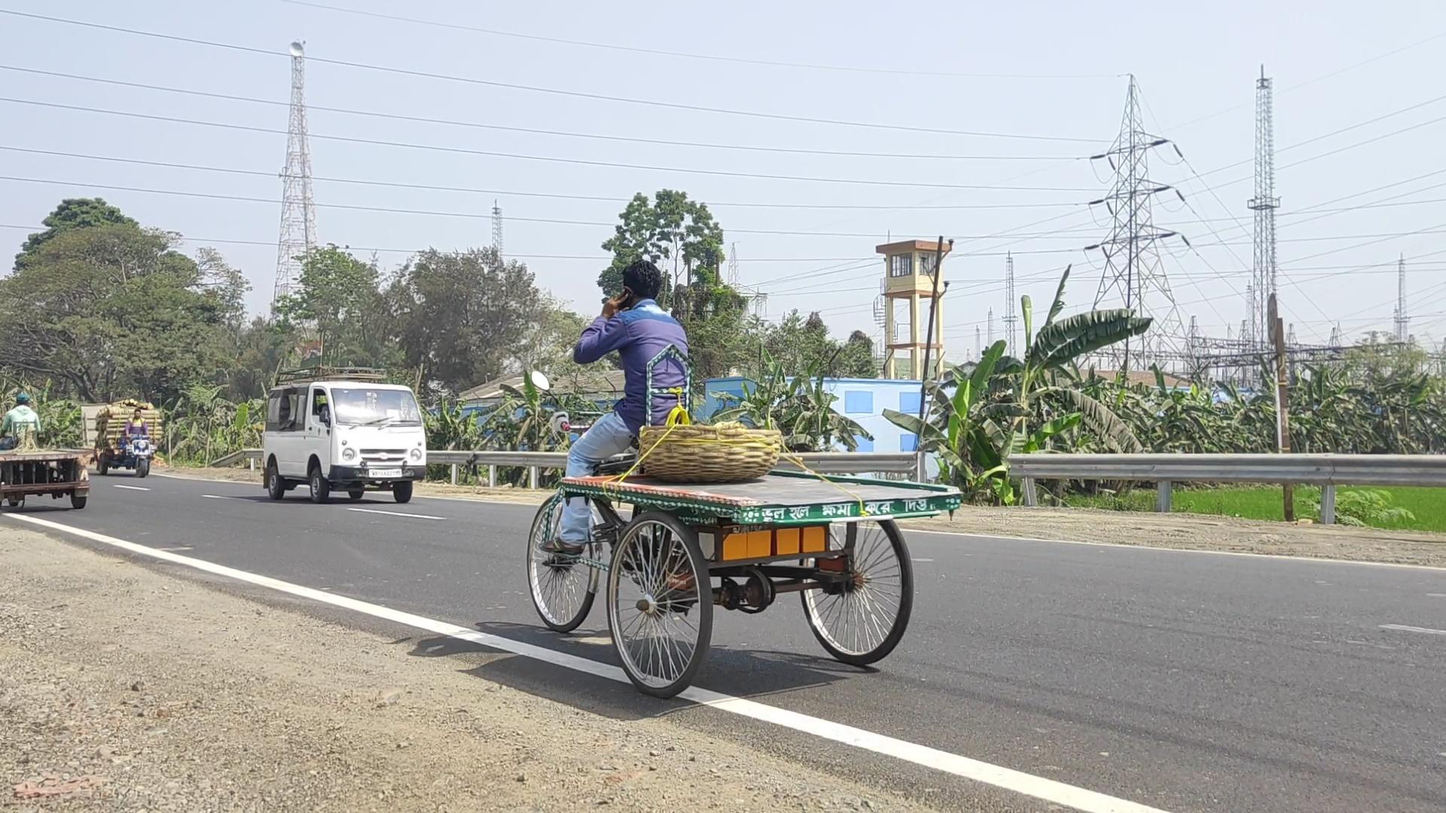van: (261, 367, 428, 501)
